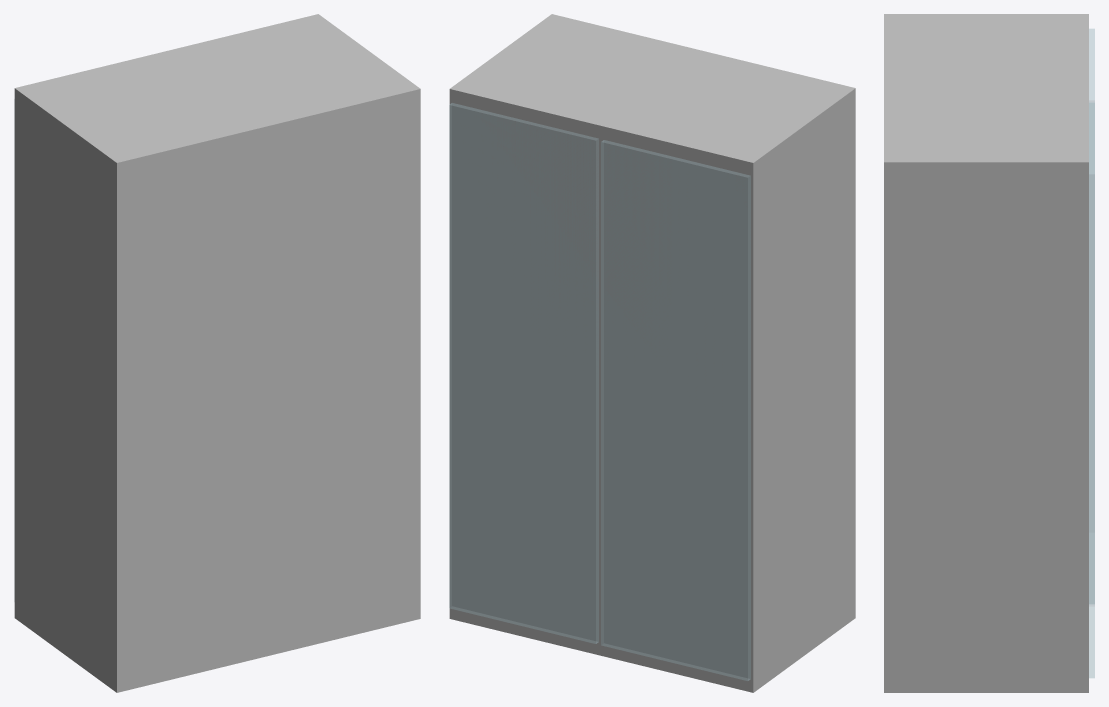
The model's file is police.store.drying_cabinet.glb.
3 views of the same model, side by side, from view 1: azimuth 30°, elevation 25°; view 2: azimuth 150°, elevation 25°; view 3: azimuth 270°, elevation 25° (orthographic).
Parts seen in each view (by area): view 1: main__steel_stainless; view 2: main__steel_stainless, main__glass; view 3: main__steel_stainless, main__glass.
Part boxes in pixels (left/top/right/bottom): main__steel_stainless: left=14, top=14, right=420, bottom=692; main__steel_stainless: left=449, top=14, right=855, bottom=692; main__glass: left=449, top=103, right=750, bottom=680; main__steel_stainless: left=884, top=14, right=1088, bottom=692; main__glass: left=1089, top=29, right=1094, bottom=677.
Size of the model in its own units: 1.2 by 2 by 0.72.
